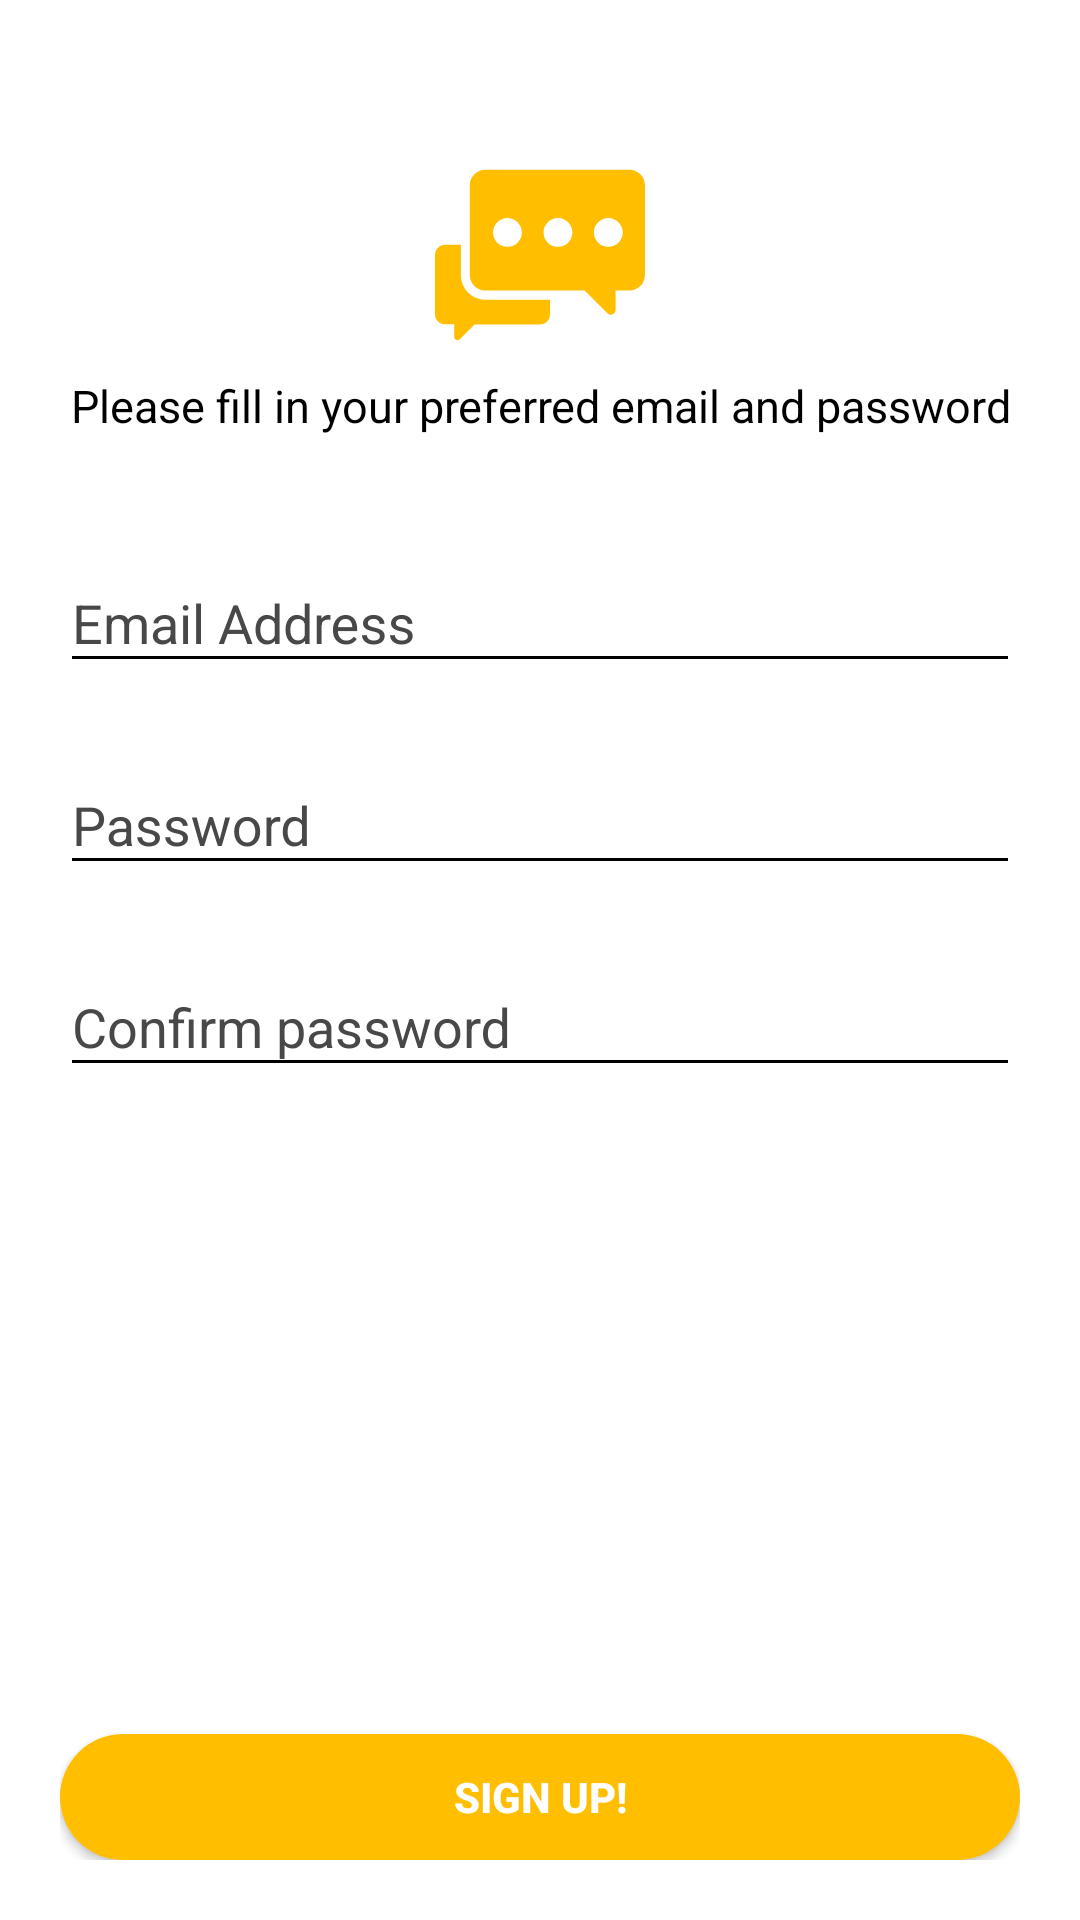

Named icons in this screenshot (1080×1920) and their centers, point (x, y):
support: point (540, 255)
